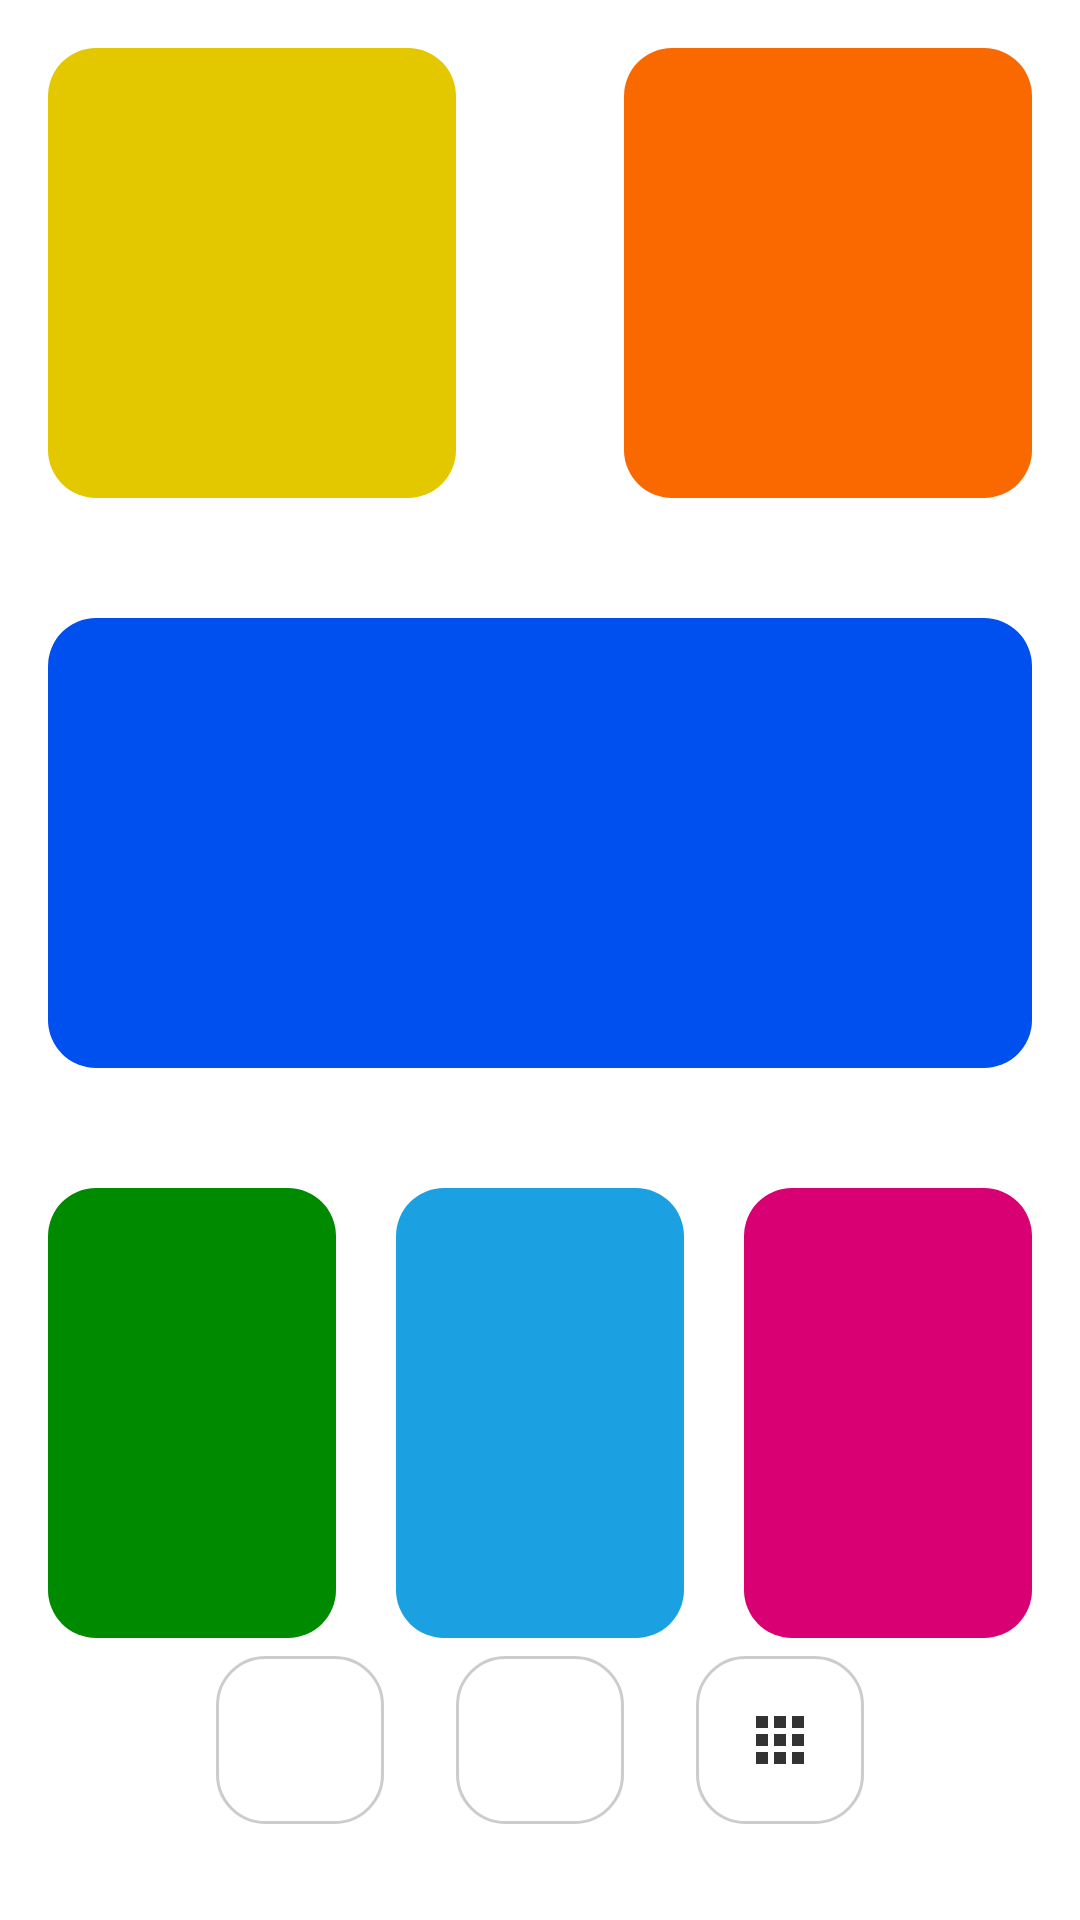

Where icons sit on this 1080*1920 app screen, as (x1, y1, x2, y2):
Menú: (696, 1656, 864, 1824)
